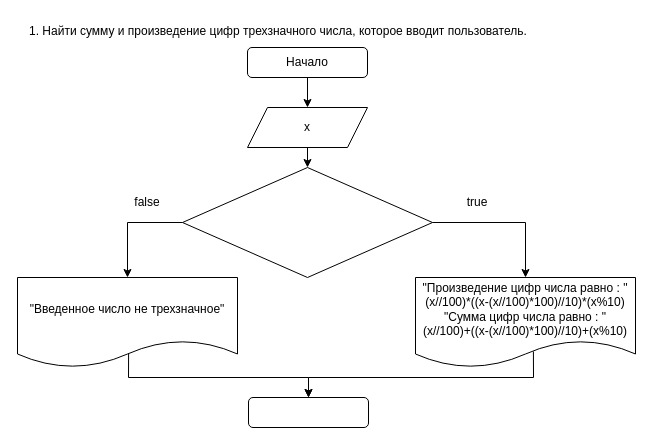
This 653x445 diagram has some shape labels left out. The centre of each missing label's shape, as x and y in pixels:
not(x//1000) AND x//100: point 307,222
Конец: point 308,412
